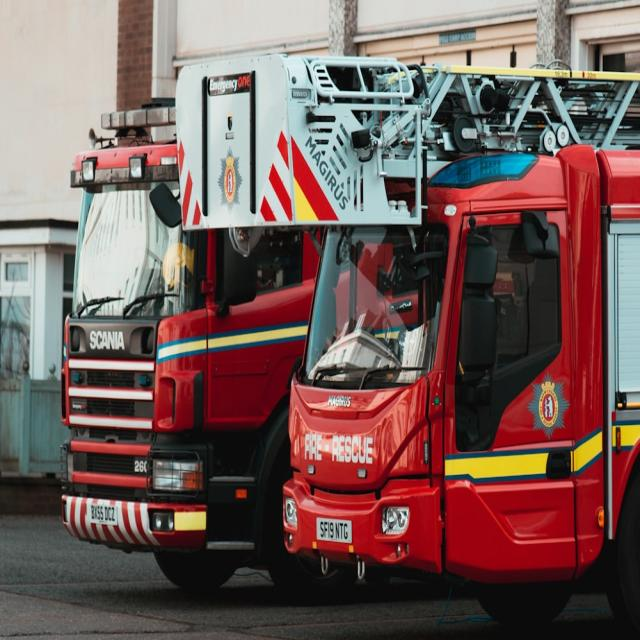emergency: (176, 54, 640, 629), (61, 99, 349, 595)
